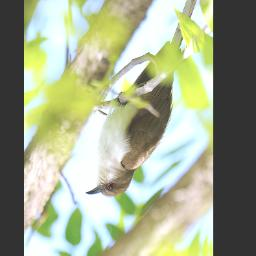Cuckoo: (85, 0, 207, 200)
